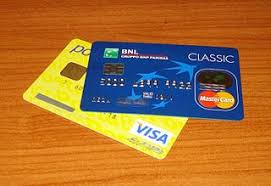tarjeta: (23, 39, 189, 159), (80, 41, 244, 121)
